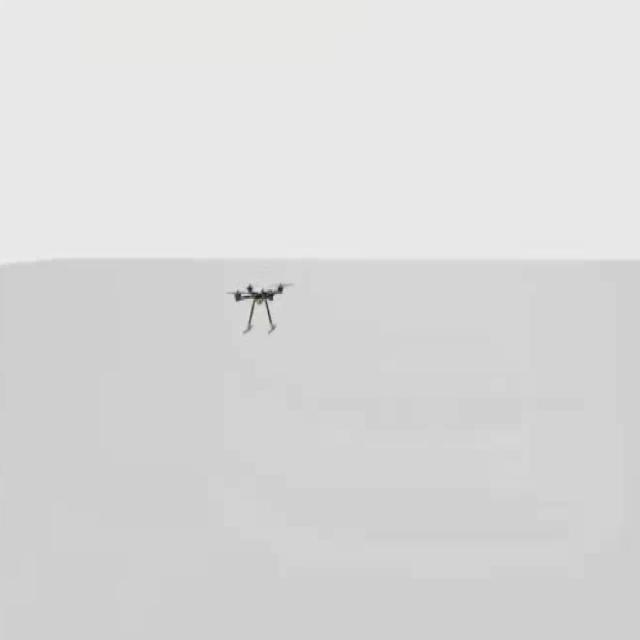drone: (225, 270, 293, 338)
